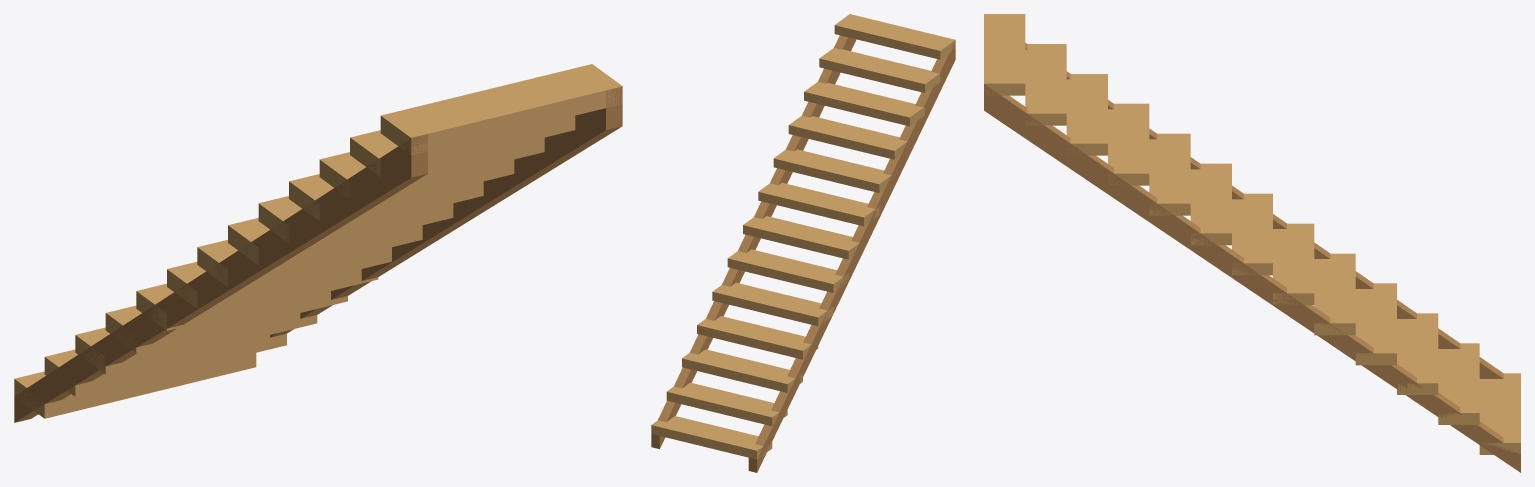
Rendered from STAIRS_260.glb.
3 renders of one model, left to right at view 1: azimuth 30°, elevation 25°; view 2: azimuth 150°, elevation 25°; view 3: azimuth 270°, elevation 25°, orthographic. The views are drawn at different scales.
Size of the model in its own units: 1 by 2.6 by 3.25.
